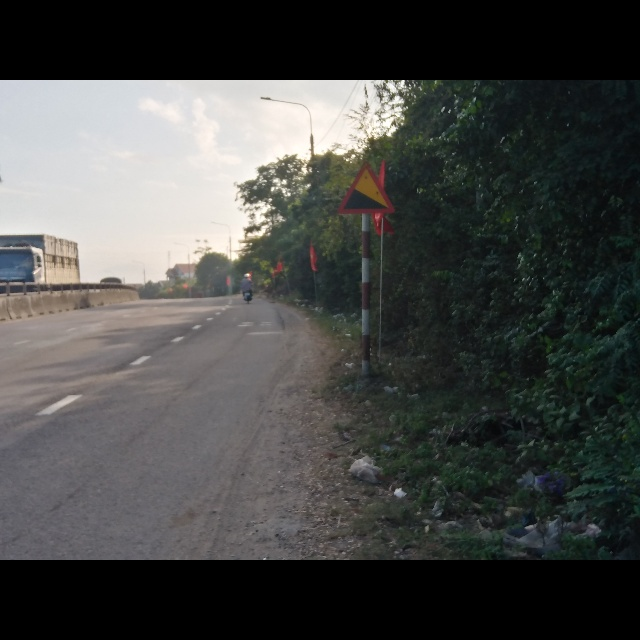Dốc lên nguy hiểm: (336, 161, 394, 216)
